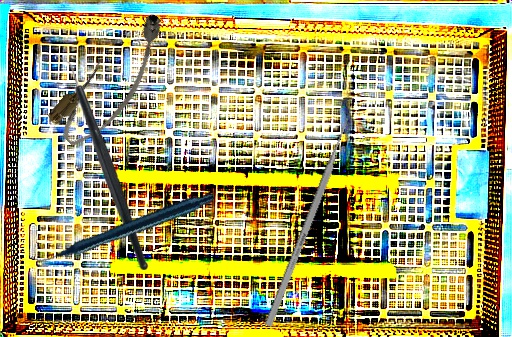Cannula: (43, 6, 185, 155)
Chopper: (52, 51, 149, 270)
Handpiece: (29, 150, 215, 303)
Pusher: (264, 107, 356, 328)
